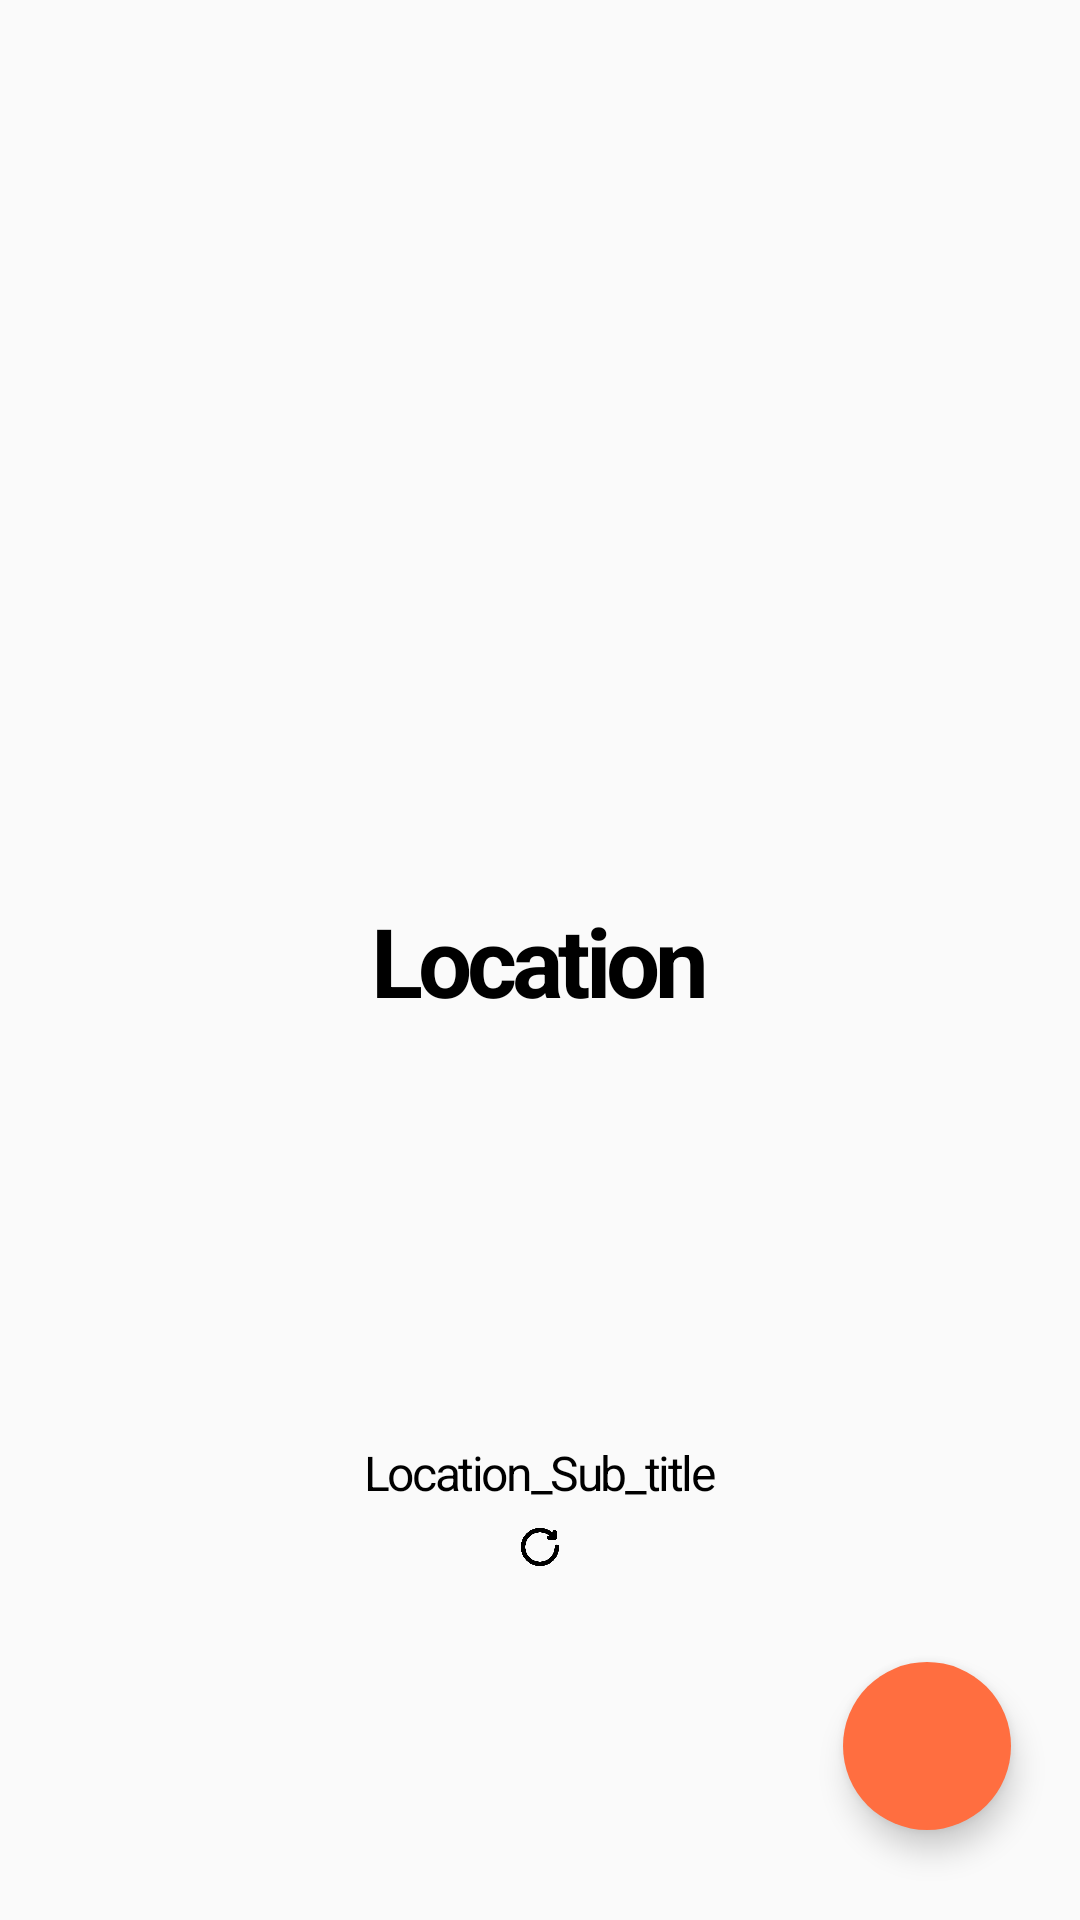

Named icons in this screenshot (1080 × 1920) and their centers, point (x, y):
refresh: point (540, 1547)
